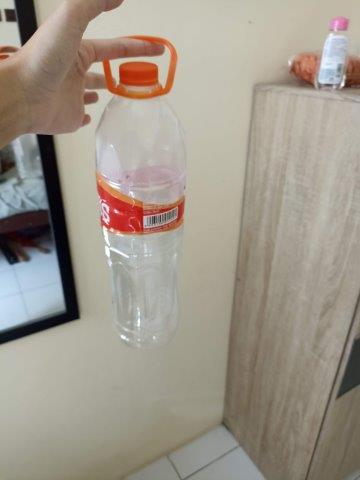botolplastik: (92, 62, 183, 348)
